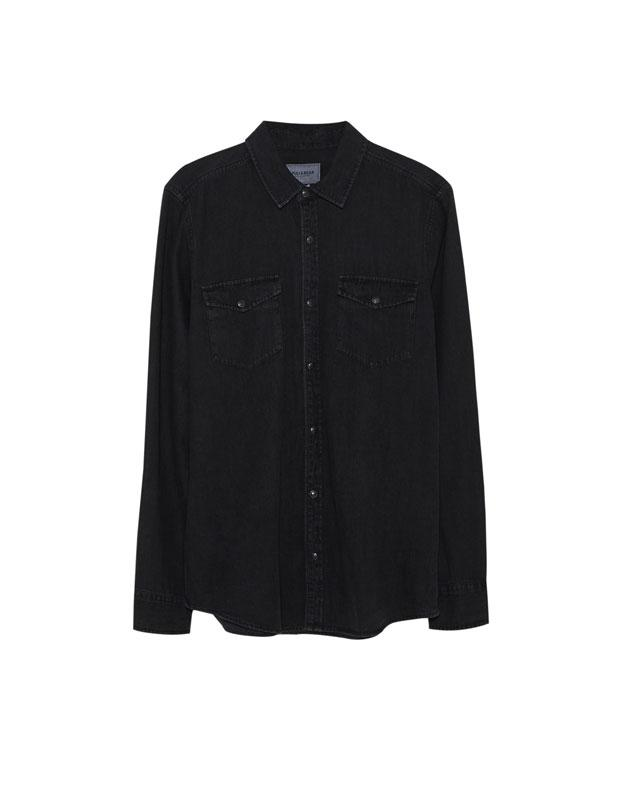teeshirt: (129, 112, 505, 655)
